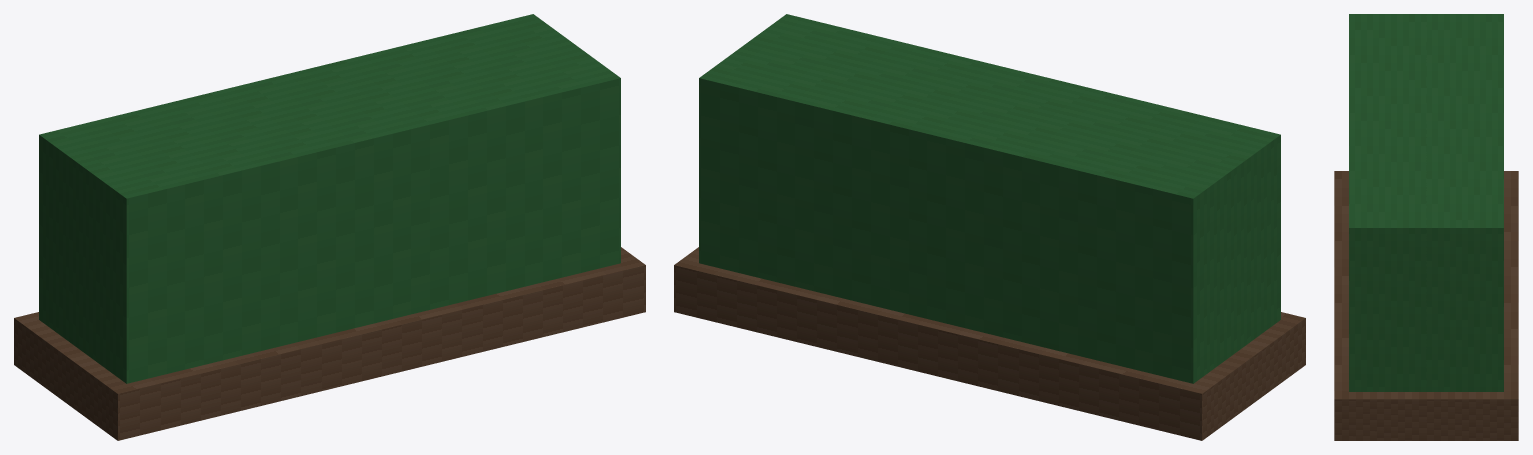
File: hedge-lod1.glb
3 views of the same model, side by side, from view 1: azimuth 30°, elevation 25°; view 2: azimuth 150°, elevation 25°; view 3: azimuth 270°, elevation 25° (orthographic). The views are drawn at different scales.
Visible parts, largest first — view 1: hedge-lod1; view 2: hedge-lod1; view 3: hedge-lod1.
Part boxes in pixels (left/top/right/bottom): hedge-lod1: left=14, top=14, right=645, bottom=440; hedge-lod1: left=674, top=14, right=1305, bottom=440; hedge-lod1: left=1334, top=14, right=1518, bottom=440.
Bounding box in the file's own units: 1.88 × 0.79 × 0.64.
Materials: 1 (1 with a texture image).
